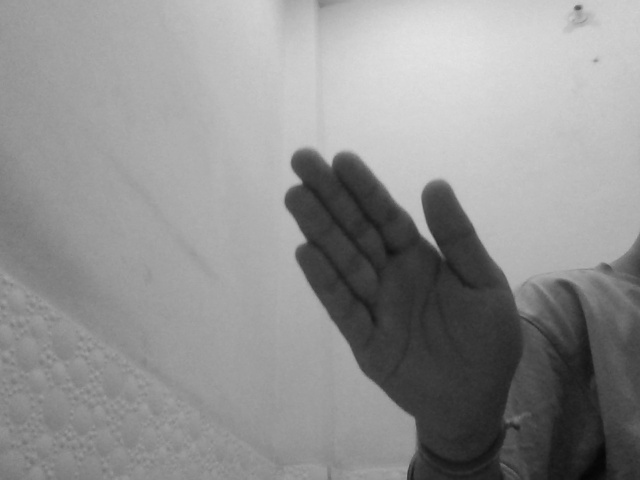Hello: (281, 146, 528, 432)
